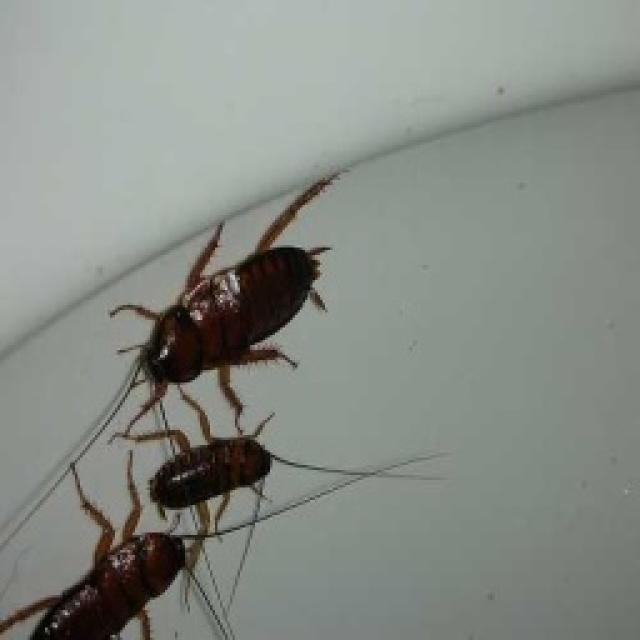cockroach: (119, 163, 358, 419), (122, 411, 321, 541), (10, 509, 202, 640)
